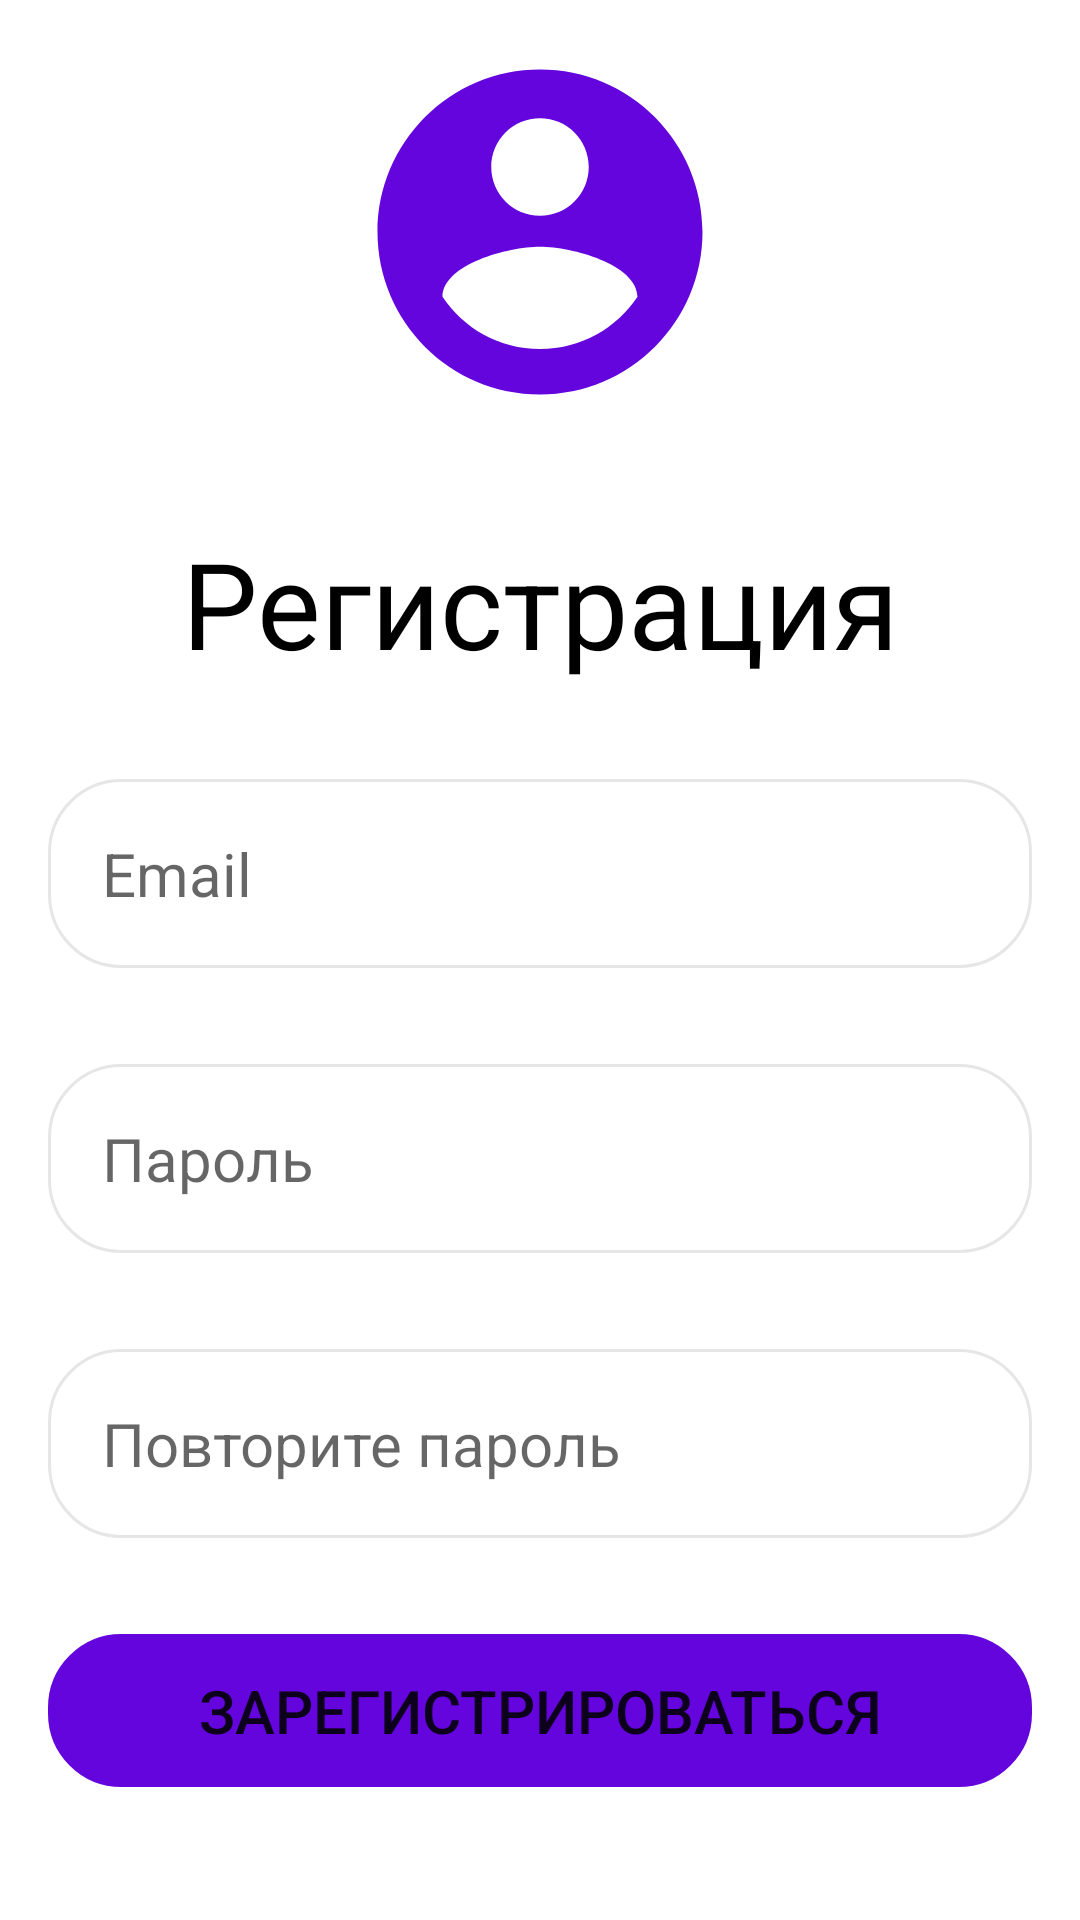

Screen size 1080 × 1920. Icon name, then its center in pixels as (x=x, y=y):
account circle: (x=540, y=232)
